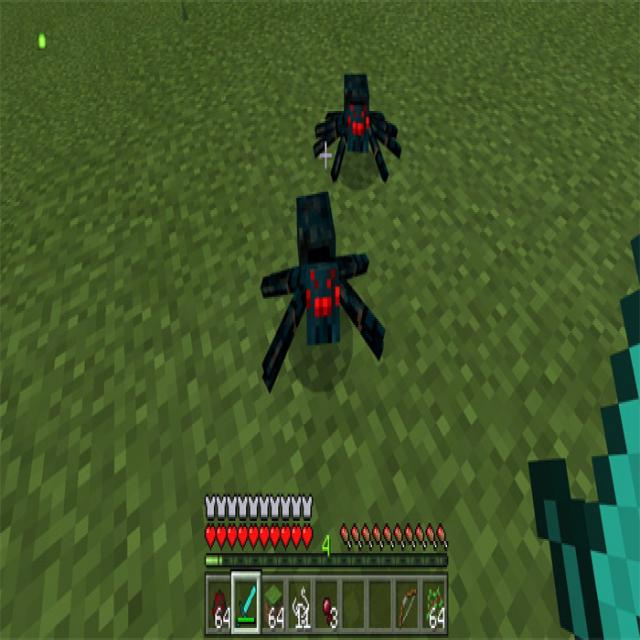Cave Spider: (248, 190, 394, 390), (308, 57, 407, 176)
